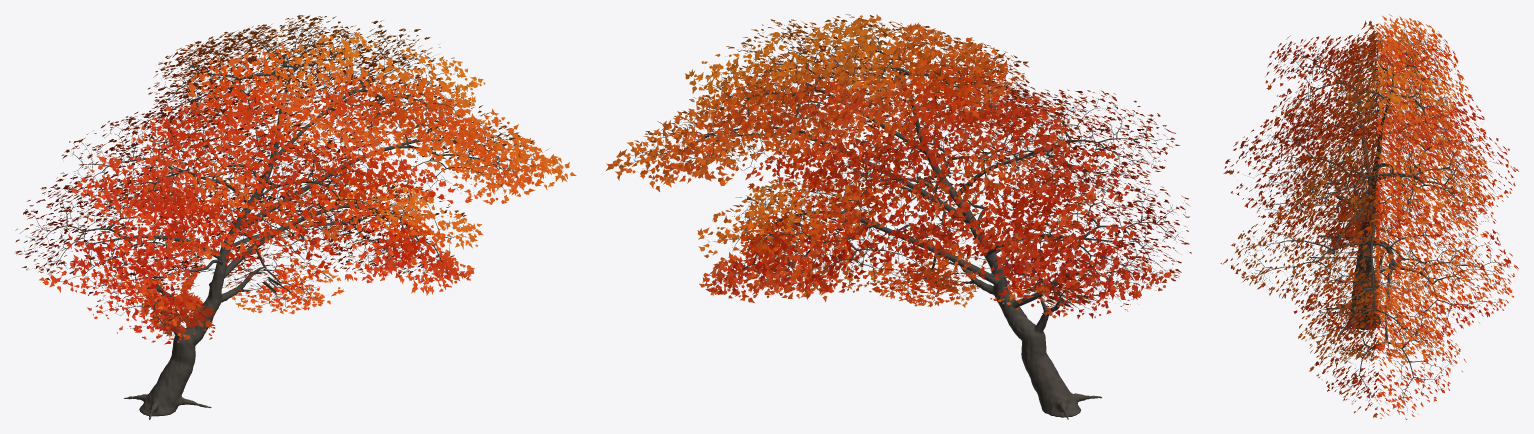
The model's file is wish-tree-canopy-r06-mobile.glb.
3 views of the same model, side by side, from view 1: azimuth 30°, elevation 25°; view 2: azimuth 150°, elevation 25°; view 3: azimuth 270°, elevation 25° (orthographic). The views are drawn at different scales.
Parts seen in each view (by area): view 1: CANOPY_heart, CANOPY_crown, CANOPY_upper-left, CANOPY_right-upper, CANOPY_left-shelf, CANOPY_right-middle, WOOD_natural_trunk, CANOPY_lower-heart, CANOPY_left-lower, CANOPY_right-fall, TWIGS_heart, CANOPY_lower-fall (+9 smaller); view 2: CANOPY_heart, CANOPY_crown, CANOPY_lower-heart, CANOPY_left-shelf, CANOPY_right-upper, CANOPY_upper-left, WOOD_natural_trunk, CANOPY_right-middle, CANOPY_right-fall, CANOPY_left-lower, CANOPY_right-reach, TWIGS_heart (+8 smaller); view 3: CANOPY_heart, CANOPY_crown, CANOPY_right-upper, CANOPY_right-middle, CANOPY_lower-heart, CANOPY_right-fall, CANOPY_upper-left, CANOPY_left-shelf, CANOPY_right-reach, WOOD_natural_trunk, TWIGS_heart, TWIGS_crown (+11 smaller).
Boxes of the visible parts, <box> form: CANOPY_heart: <box>146,78,401,267</box>; CANOPY_crown: <box>144,15,392,141</box>; CANOPY_upper-left: <box>56,102,269,218</box>; CANOPY_right-upper: <box>273,20,485,157</box>; CANOPY_left-shelf: <box>14,178,220,295</box>; CANOPY_right-middle: <box>318,65,558,204</box>; WOOD_natural_trunk: <box>87,43,493,419</box>; CANOPY_lower-heart: <box>212,149,426,283</box>; CANOPY_left-lower: <box>87,239,252,344</box>; CANOPY_right-fall: <box>346,180,483,295</box>; TWIGS_heart: <box>161,101,383,253</box>; CANOPY_lower-fall: <box>211,242,344,314</box>; CANOPY_heart: <box>794,75,1072,265</box>; CANOPY_crown: <box>779,14,1063,133</box>; CANOPY_lower-heart: <box>746,145,976,302</box>; CANOPY_left-shelf: <box>978,169,1191,300</box>; CANOPY_right-upper: <box>685,19,909,157</box>; CANOPY_upper-left: <box>942,87,1179,205</box>; WOOD_natural_trunk: <box>689,38,1125,419</box>; CANOPY_right-middle: <box>653,47,892,195</box>; CANOPY_right-fall: <box>697,179,833,302</box>; CANOPY_left-lower: <box>952,222,1169,318</box>; CANOPY_right-reach: <box>605,98,778,191</box>; TWIGS_heart: <box>816,88,1059,252</box>; CANOPY_heart: <box>1223,96,1518,243</box>; CANOPY_crown: <box>1314,14,1468,139</box>; CANOPY_right-upper: <box>1275,134,1495,233</box>; CANOPY_right-middle: <box>1220,202,1482,302</box>; CANOPY_lower-heart: <box>1275,225,1518,350</box>; CANOPY_right-fall: <box>1309,297,1466,419</box>; CANOPY_upper-left: <box>1265,34,1451,121</box>; CANOPY_left-shelf: <box>1277,88,1484,181</box>; CANOPY_right-reach: <box>1295,297,1448,364</box>; WOOD_natural_trunk: <box>1335,83,1393,357</box>; TWIGS_heart: <box>1236,111,1500,232</box>; TWIGS_crown: <box>1330,22,1456,135</box>.
Bounding box in the file's own units: 11.29 × 7.17 × 5.72.
Materials: 3 (3 with a texture image).
